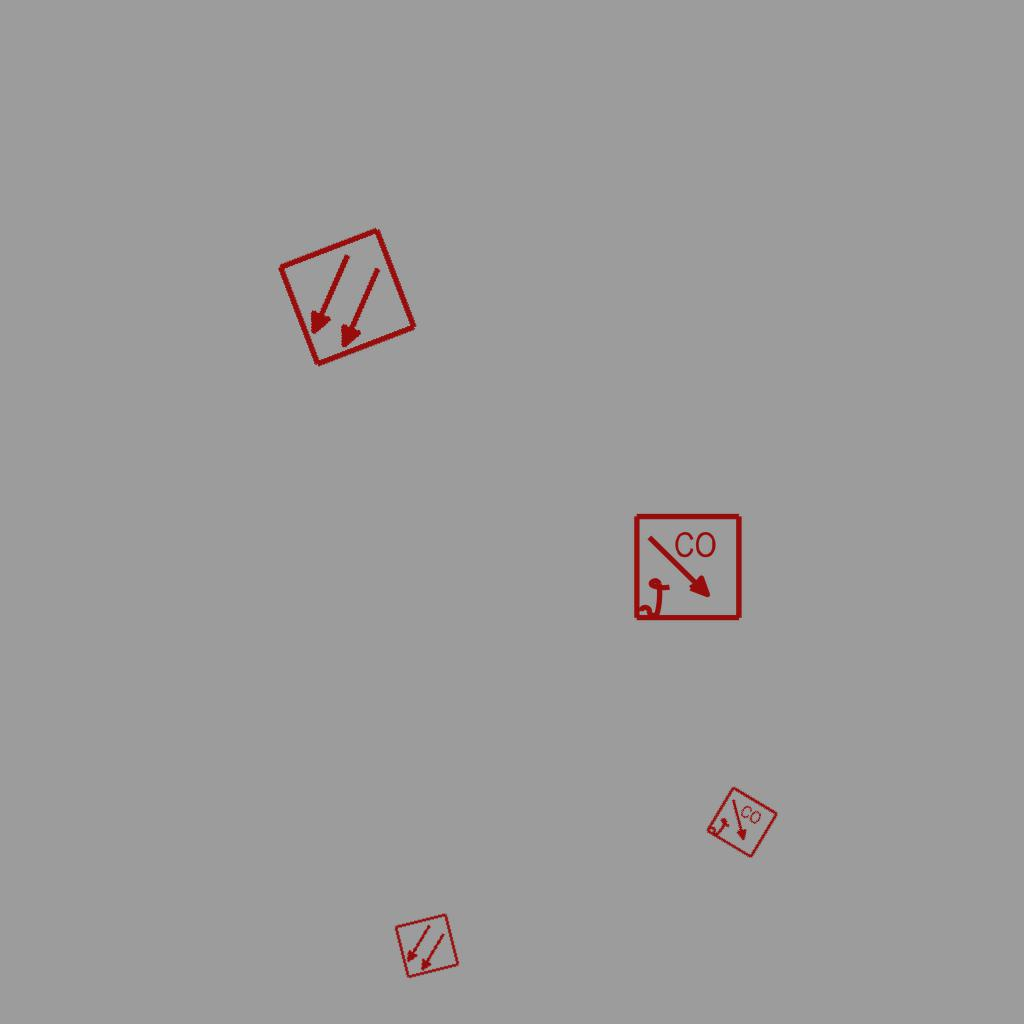RMO_Rauchmelder_optischer: (274, 224, 421, 371), (393, 912, 461, 980)
ROA_Rauchmelder_optisch_mit_Signalgeber_(Sockelsirene): (632, 512, 745, 625), (703, 784, 781, 862)
